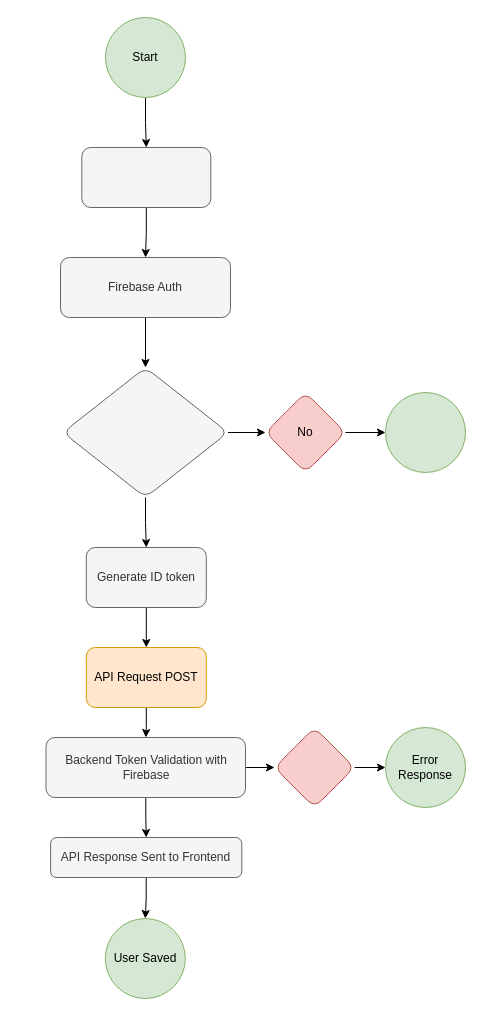
Some shapes in this 483 by 1016 pixel diagram are drawn without their labels. Each missing label, with the box of its shape:
Auth Successful?: (62, 366, 228, 498)
Invalid: (274, 726, 354, 808)
Show Error: (384, 392, 466, 472)
Sign up: (81, 146, 211, 208)
